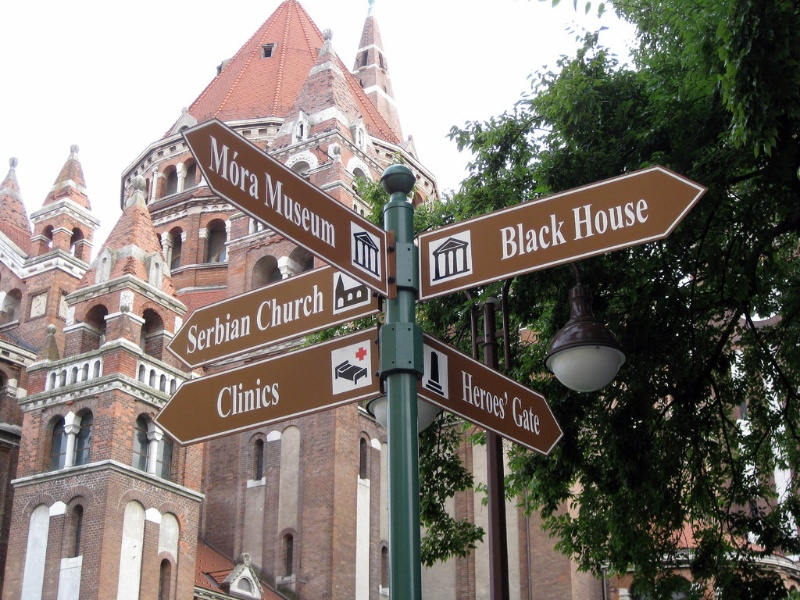black_house: (420, 188, 684, 291)
church: (148, 282, 377, 341)
clinics: (217, 344, 379, 450)
museum: (192, 106, 396, 278)
